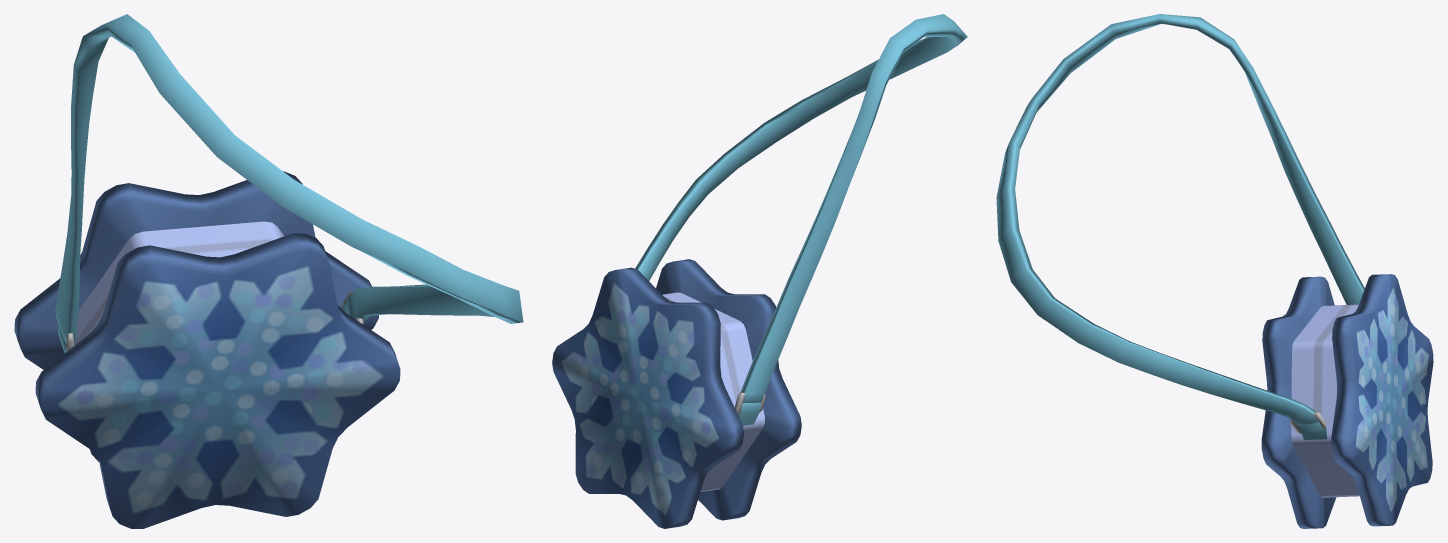
The model's file is BagShoulderSnow0.glb.
The picture shows the model from 3 angles, left to right: view 1: azimuth 30°, elevation 25°; view 2: azimuth 150°, elevation 25°; view 3: azimuth 270°, elevation 25°; orthographic projection. The views are drawn at different scales.
Visible parts, largest first — view 1: Body_1__mBag; view 2: Body_1__mBag; view 3: Body_1__mBag.
Boxes of the visible parts, box(x1,y1,x2,y2) form: Body_1__mBag: box(14, 14, 523, 528); Body_1__mBag: box(552, 14, 967, 528); Body_1__mBag: box(996, 14, 1433, 528).
Size of the model in its own units: 2.95 by 4.53 by 4.17.
Materials: 1 (1 with a texture image).
